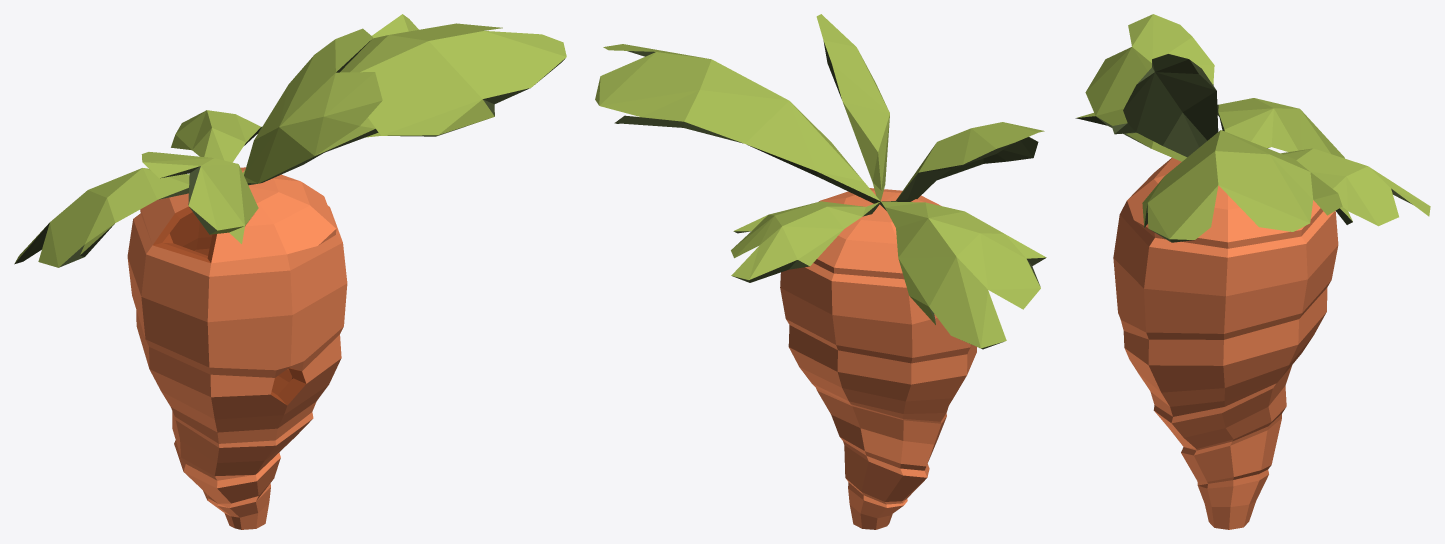
The model's file is CarotteGéante 1.fbx.
3 renders of one model, left to right at view 1: azimuth 30°, elevation 25°; view 2: azimuth 150°, elevation 25°; view 3: azimuth 270°, elevation 25°, orthographic. The views are drawn at different scales.
Parts seen in each view (by area): view 1: CarotteGéante; view 2: CarotteGéante; view 3: CarotteGéante.
Boxes of the visible parts, x1=… form: CarotteGéante: x1=14, y1=14, x2=566, y2=529; CarotteGéante: x1=595, y1=14, x2=1046, y2=529; CarotteGéante: x1=1075, y1=14, x2=1430, y2=529.
Bounding box in the file's own units: 115 × 111 × 69.62.
